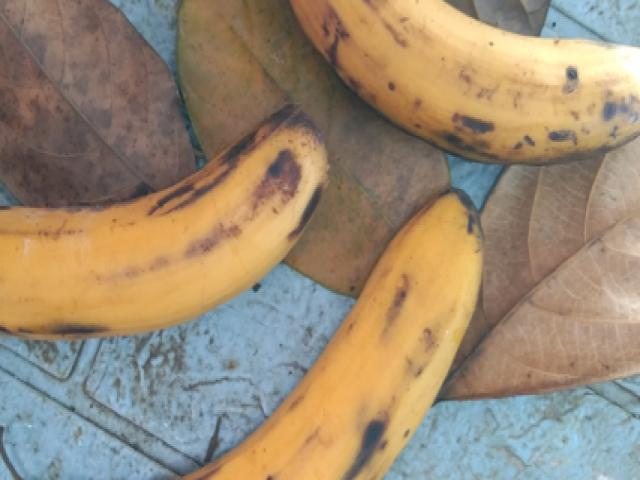overripe: (0, 96, 327, 358), (288, 3, 639, 182)
ripe: (169, 177, 505, 479)
